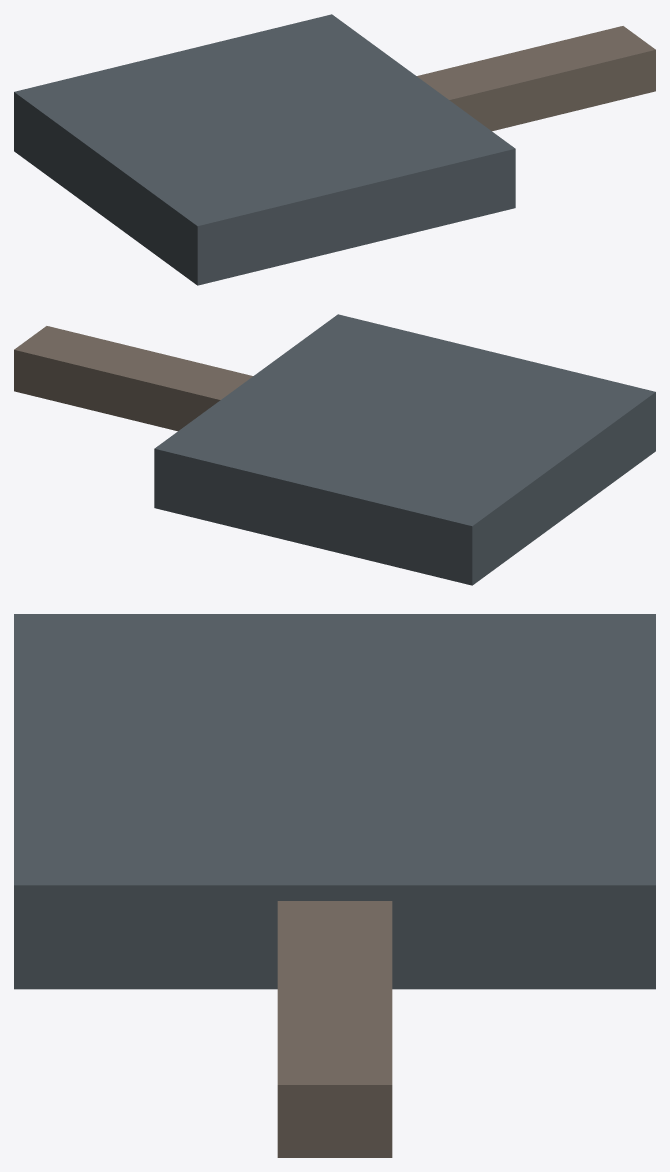
Rendered from frying_pan.glb.
3 views of the same model, one above another, from view 1: azimuth 30°, elevation 25°; view 2: azimuth 150°, elevation 25°; view 3: azimuth 270°, elevation 25° (orthographic). The views are drawn at different scales.
Visible parts, largest first — view 1: body; view 2: body; view 3: body.
Part boxes in pixels (<box>): body: <box>14,14,655,285</box>; body: <box>14,314,655,585</box>; body: <box>14,614,655,1157</box>.
Bounding box in the file's own units: 0.47 × 0.05 × 0.28.
